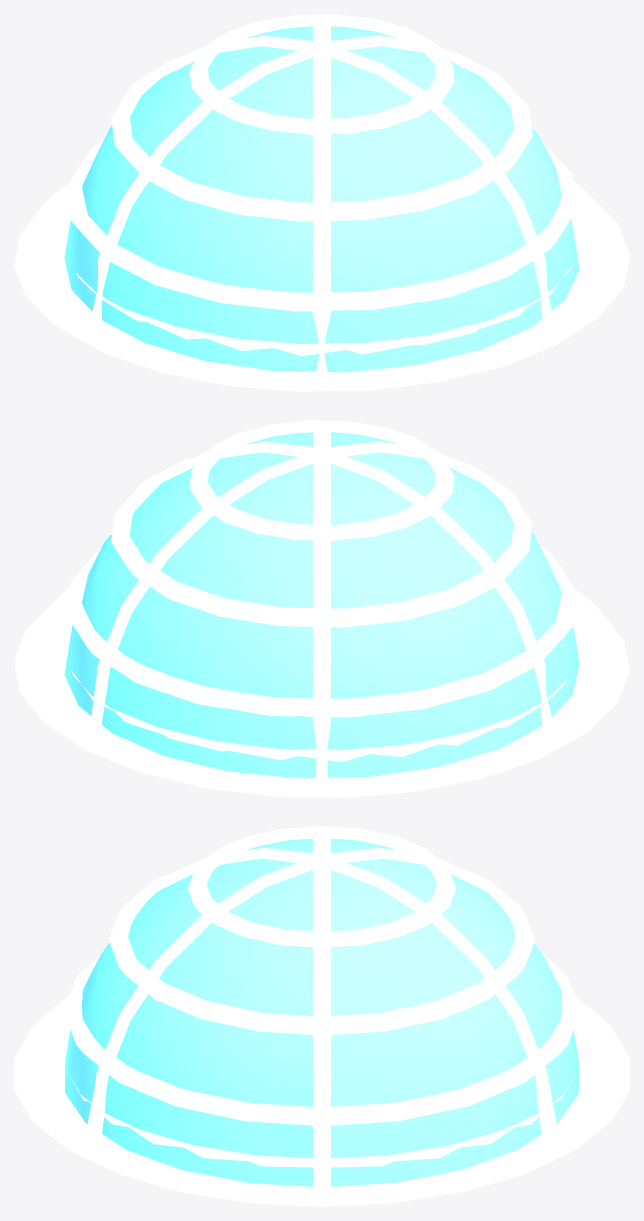
The model's file is fx_dome.glb.
The picture shows the model from 3 angles, top to bottom: view 1: azimuth 30°, elevation 25°; view 2: azimuth 150°, elevation 25°; view 3: azimuth 270°, elevation 25°; orthographic projection.
Visible parts, largest first — view 1: expanding-dome; view 2: expanding-dome; view 3: expanding-dome.
Boxes of the visible parts, bbox=[...] form: expanding-dome: bbox=[14, 14, 629, 391]; expanding-dome: bbox=[14, 420, 629, 797]; expanding-dome: bbox=[14, 826, 629, 1206].
Size of the model in its own units: 1.1 by 0.4343 by 1.09.
